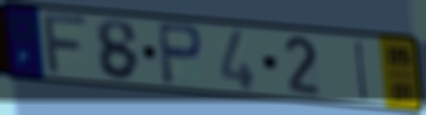2: (283, 35, 322, 98)
4: (218, 27, 258, 94)
8: (93, 18, 141, 82)
F: (42, 13, 92, 77)
I: (353, 38, 370, 103)
P: (155, 20, 206, 88)
